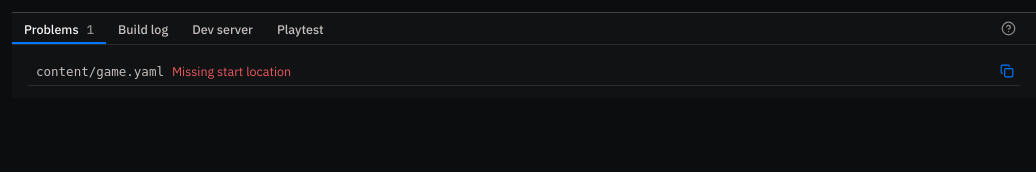
Test: BottomDock › switches tabs and opens validation problems
Click the button "content/game.yaml Missing start location" at [100, 72], box x1=28 y1=57 x2=990 y2=85
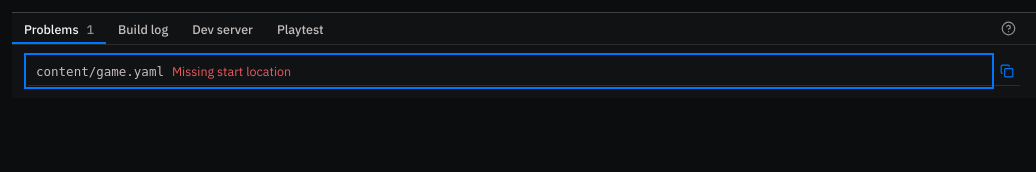
Click the button named "Copy problem" at [1007, 71], box x1=994 y1=58 x2=1020 y2=84
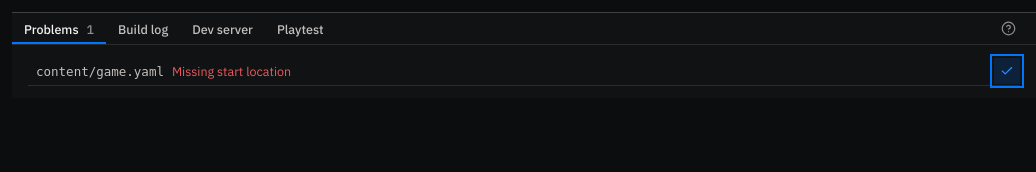
expect the button named "Problem copied" is shown: met, box x1=994 y1=58 x2=1020 y2=84
